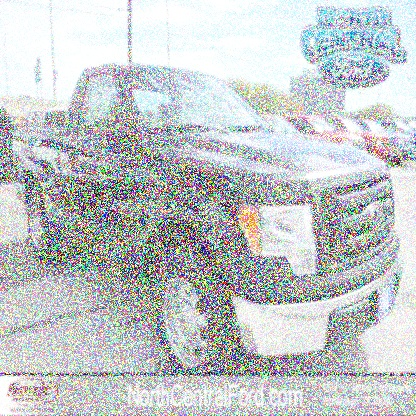Vehicle: (11, 60, 405, 378)
